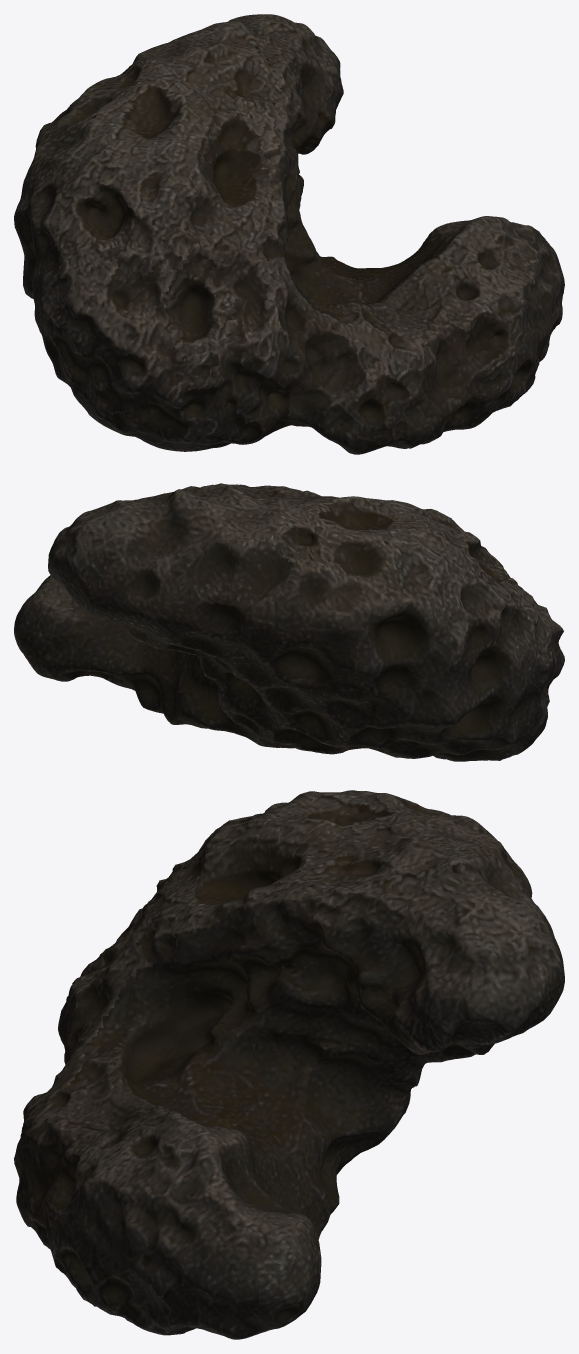
Rendered from asteroid_rare_2_lod1.glb.
3 renders of one model, top to bottom at view 1: azimuth 30°, elevation 25°; view 2: azimuth 150°, elevation 25°; view 3: azimuth 270°, elevation 25°, orthographic. The views are drawn at different scales.
Parts seen in each view (by area): view 1: model; view 2: model; view 3: model.
Boxes of the visible parts, x1,y1,x2,y2 form: model: (14, 14, 564, 454); model: (14, 483, 564, 761); model: (14, 790, 564, 1339).
Size of the model in its own units: 1.9 by 1.15 by 1.45.
1 material, 1 textured.
